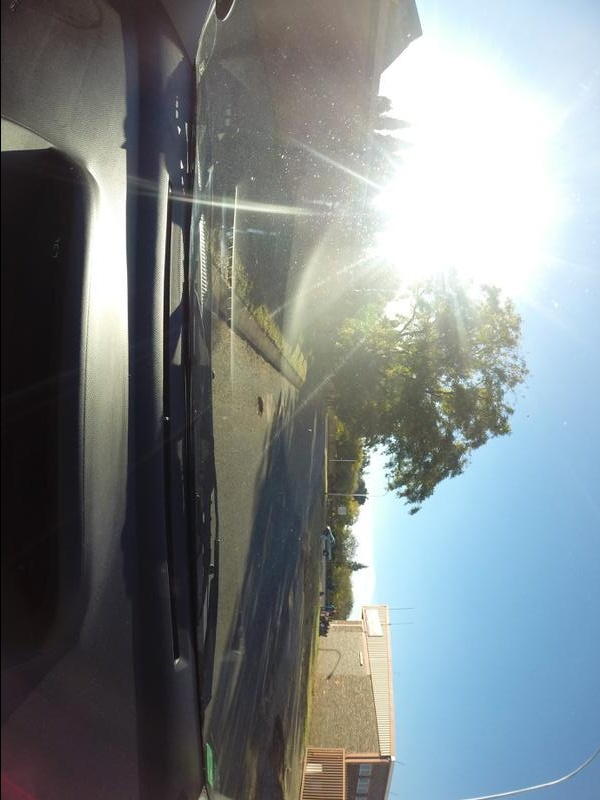pothole: (255, 394, 263, 419)
